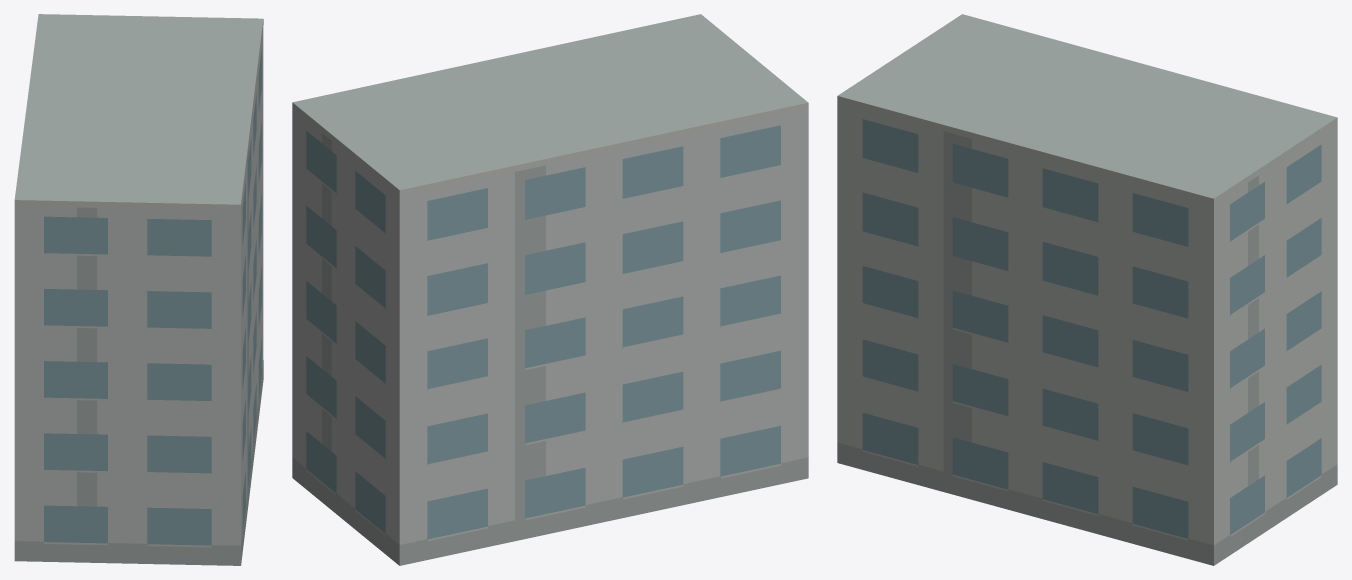
Rendered from survey-upis-32943407.glb.
The picture shows the model from 3 angles, left to right: view 1: azimuth 30°, elevation 25°; view 2: azimuth 150°, elevation 25°; view 3: azimuth 270°, elevation 25°; orthographic projection. The views are drawn at different scales.
Visible parts, largest first — view 1: survey-upis-32943407.tmp; view 2: survey-upis-32943407.tmp; view 3: survey-upis-32943407.tmp.
Part boxes in pixels (x1=…): survey-upis-32943407.tmp: x1=14, y1=14, x2=263, y2=565; survey-upis-32943407.tmp: x1=292, y1=14, x2=808, y2=565; survey-upis-32943407.tmp: x1=837, y1=14, x2=1337, y2=565.
Bounding box in the file's own units: 15.44 × 14.3 × 17.67.
